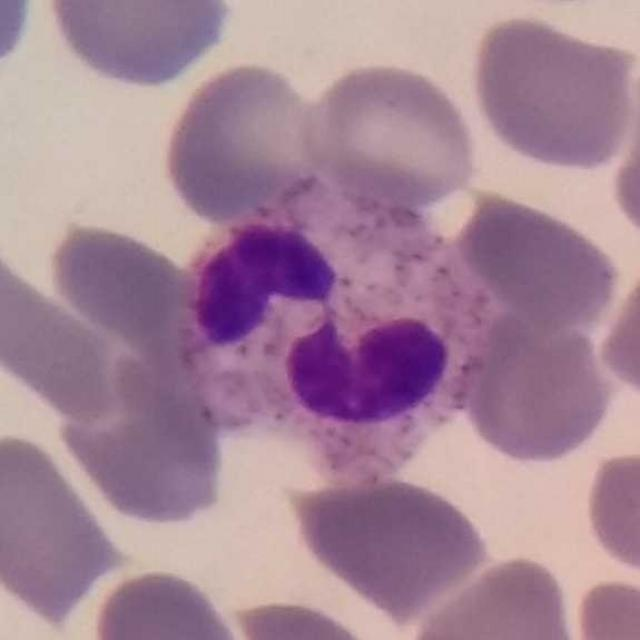Neutrophil: (176, 183, 507, 469)
RBC: (0, 225, 155, 424), (53, 364, 234, 532), (285, 471, 493, 615), (157, 58, 332, 227), (295, 56, 482, 214), (465, 11, 640, 175), (0, 425, 127, 626), (39, 216, 208, 364), (458, 310, 616, 468), (452, 187, 623, 332), (38, 0, 241, 92), (401, 551, 580, 640), (88, 564, 247, 640), (581, 444, 640, 582), (217, 595, 394, 640), (605, 47, 640, 249), (594, 252, 640, 405), (569, 573, 640, 640), (1, 0, 41, 89)
